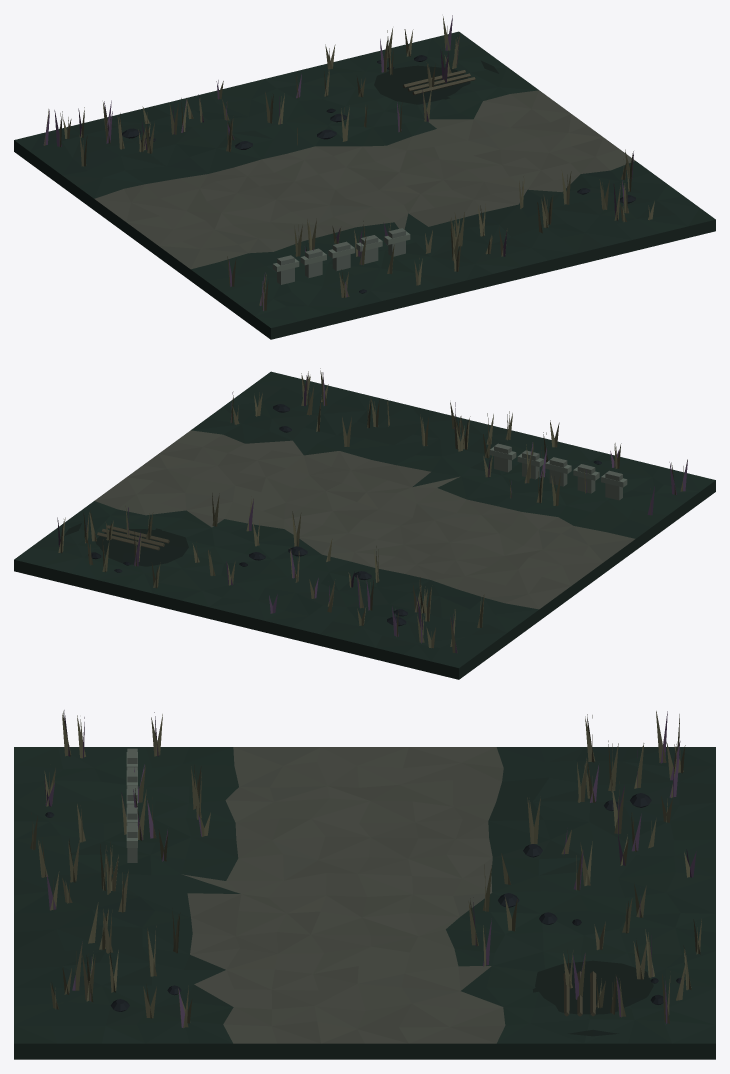
Rendered from CHUNK_bell_mire__sunken_graveyard.glb.
3 views of the same model, one above another, from view 1: azimuth 30°, elevation 25°; view 2: azimuth 150°, elevation 25°; view 3: azimuth 270°, elevation 25° (orthographic). The views are drawn at different scales.
Parts seen in each view (by area): view 1: CHUNK_bell_mire__sunken_graveyard; view 2: CHUNK_bell_mire__sunken_graveyard; view 3: CHUNK_bell_mire__sunken_graveyard.
Boxes of the visible parts, bbox=[...] form: CHUNK_bell_mire__sunken_graveyard: bbox=[14, 15, 715, 339]; CHUNK_bell_mire__sunken_graveyard: bbox=[14, 368, 715, 679]; CHUNK_bell_mire__sunken_graveyard: bbox=[14, 710, 715, 1059].
Size of the model in its own units: 8 by 0.8756 by 8.
